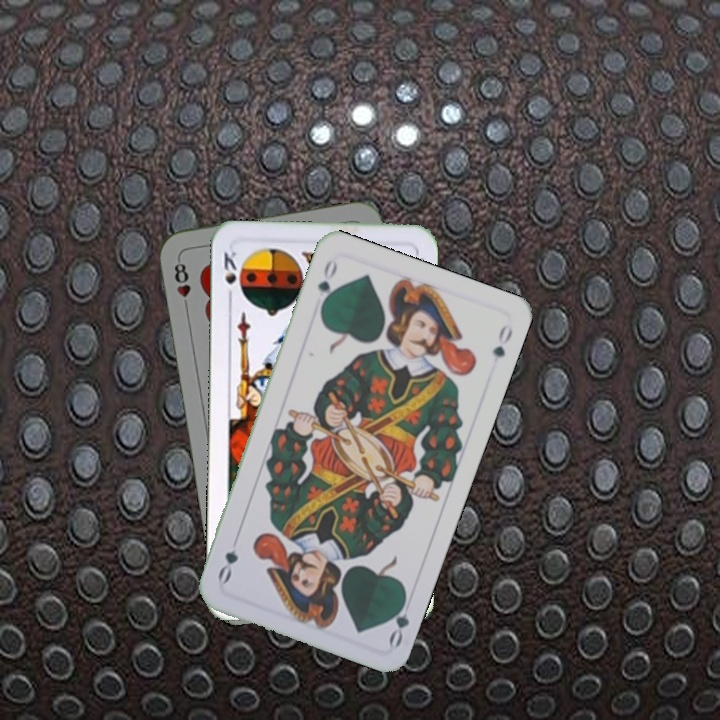GO: (384, 590, 416, 650), (313, 256, 340, 313)
H8: (170, 255, 193, 314)
SK: (220, 247, 240, 304)
